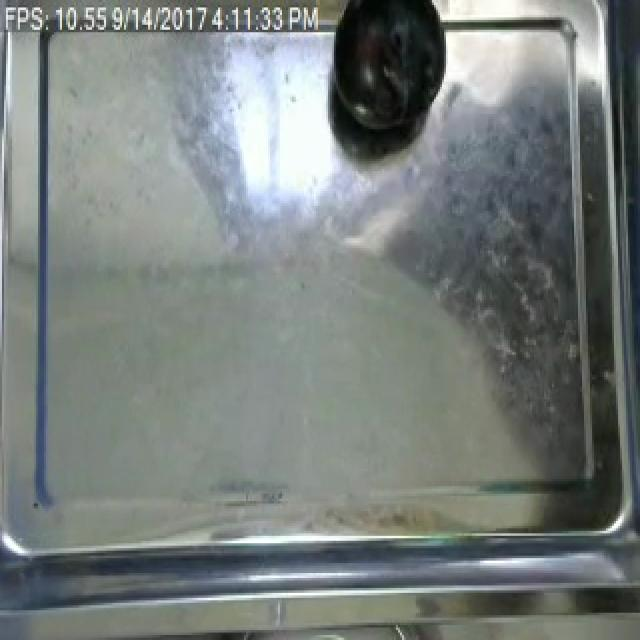Fruit: (324, 0, 454, 144)
